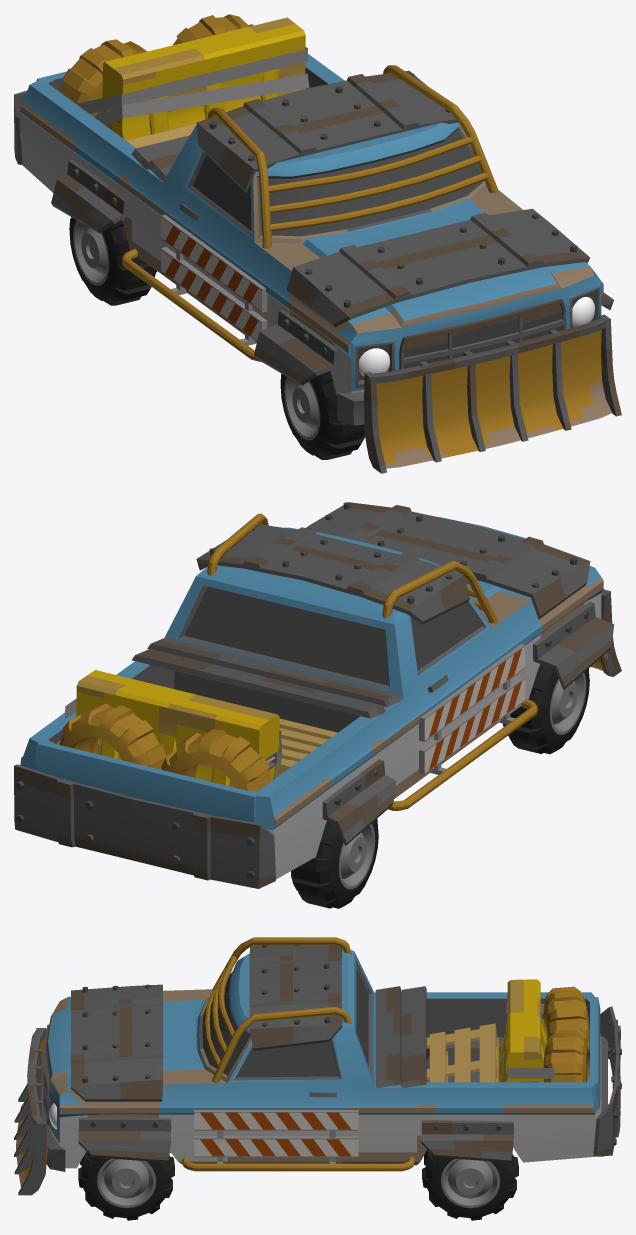
Rendered from Vehicle_Pickup_Armored.glb.
3 renders of one model, top to bottom at view 1: azimuth 30°, elevation 25°; view 2: azimuth 150°, elevation 25°; view 3: azimuth 270°, elevation 25°, orthographic. The views are drawn at different scales.
Parts seen in each view (by area): view 1: Pickup_Armored, FrontWheel_R, BackWheels; view 2: Pickup_Armored, BackWheels, FrontWheel_R; view 3: Pickup_Armored, BackWheels, FrontWheel_L.
Boxes of the visible parts, left/top/right/bottom form: Pickup_Armored: left=14, top=14, right=621, bottom=473; FrontWheel_R: left=280, top=371, right=365, bottom=459; BackWheels: left=69, top=217, right=156, bottom=305; Pickup_Armored: left=14, top=502, right=621, bottom=888; BackWheels: left=291, top=819, right=378, bottom=908; FrontWheel_R: left=502, top=664, right=589, bottom=754; Pickup_Armored: left=14, top=937, right=621, bottom=1195; BackWheels: left=422, top=1150, right=518, bottom=1220; FrontWheel_L: left=78, top=1151, right=174, bottom=1220.
Size of the model in its own units: 2.65 by 2 by 5.51.
Materials: 2 (1 with a texture image).
